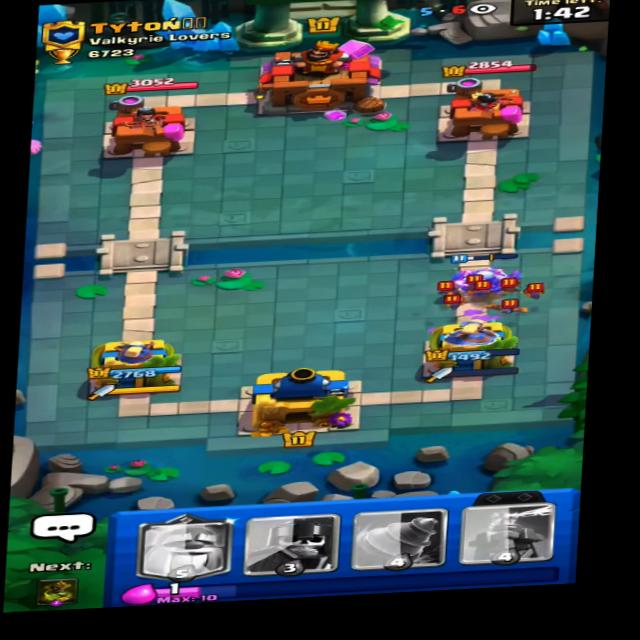Bat: (491, 295, 529, 315), (429, 277, 463, 298), (513, 285, 549, 303), (440, 290, 470, 311), (495, 279, 525, 297)
